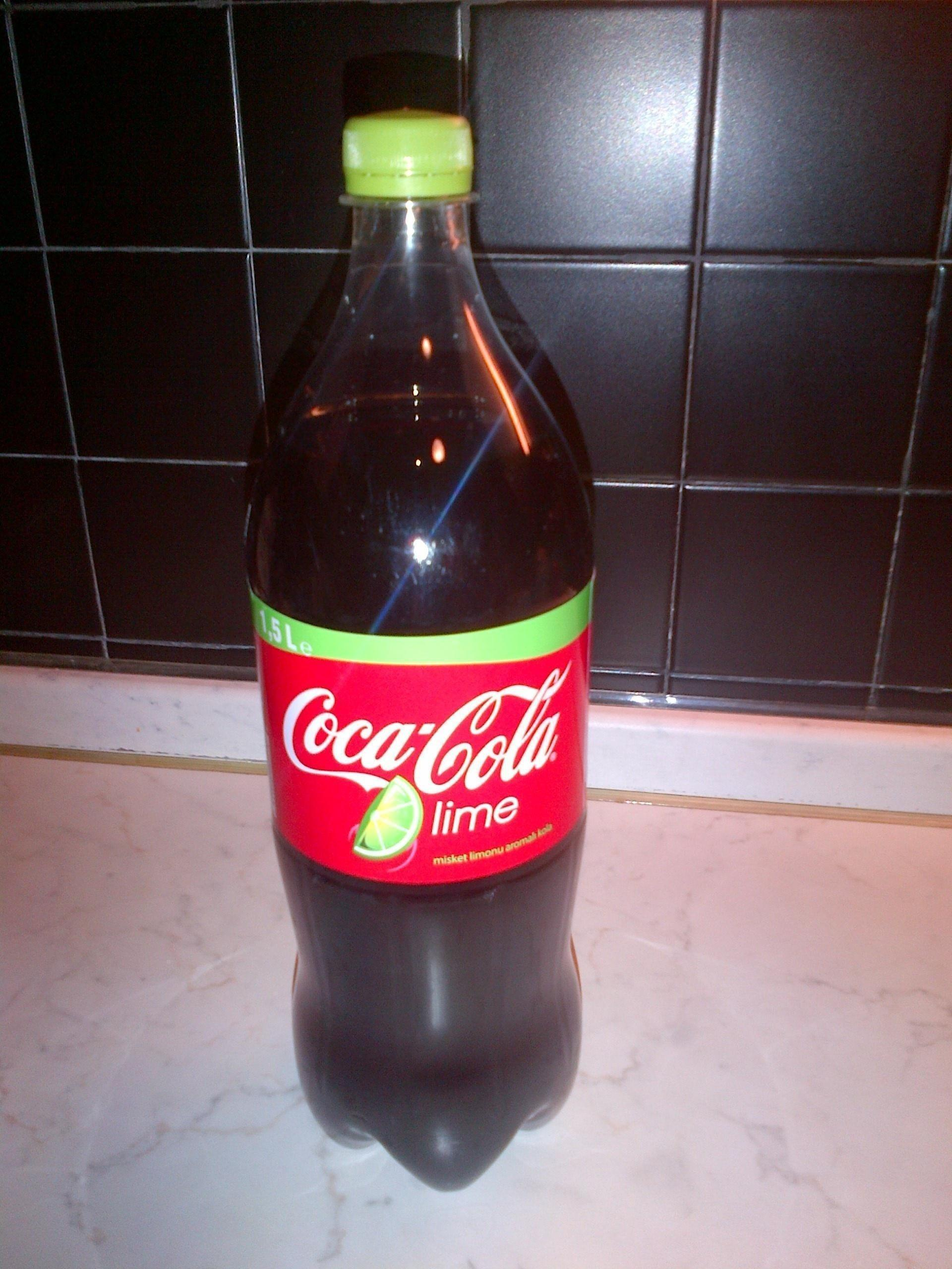bottle-plastic: (242, 104, 601, 1193)
